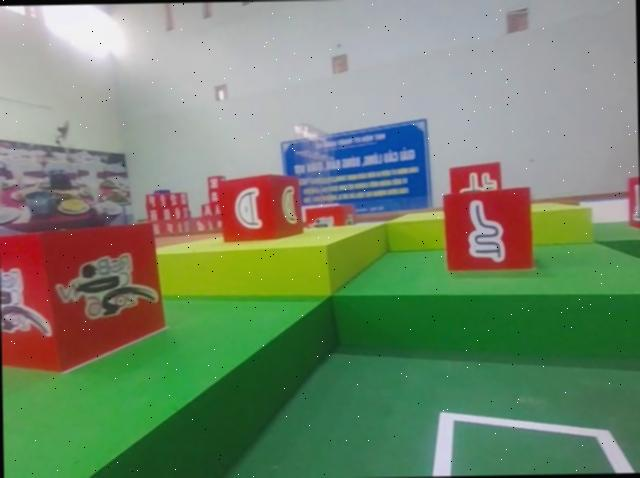R1: (0, 218, 167, 377)
R2 Fake: (441, 185, 537, 274)
R2 Real: (215, 169, 307, 244)
